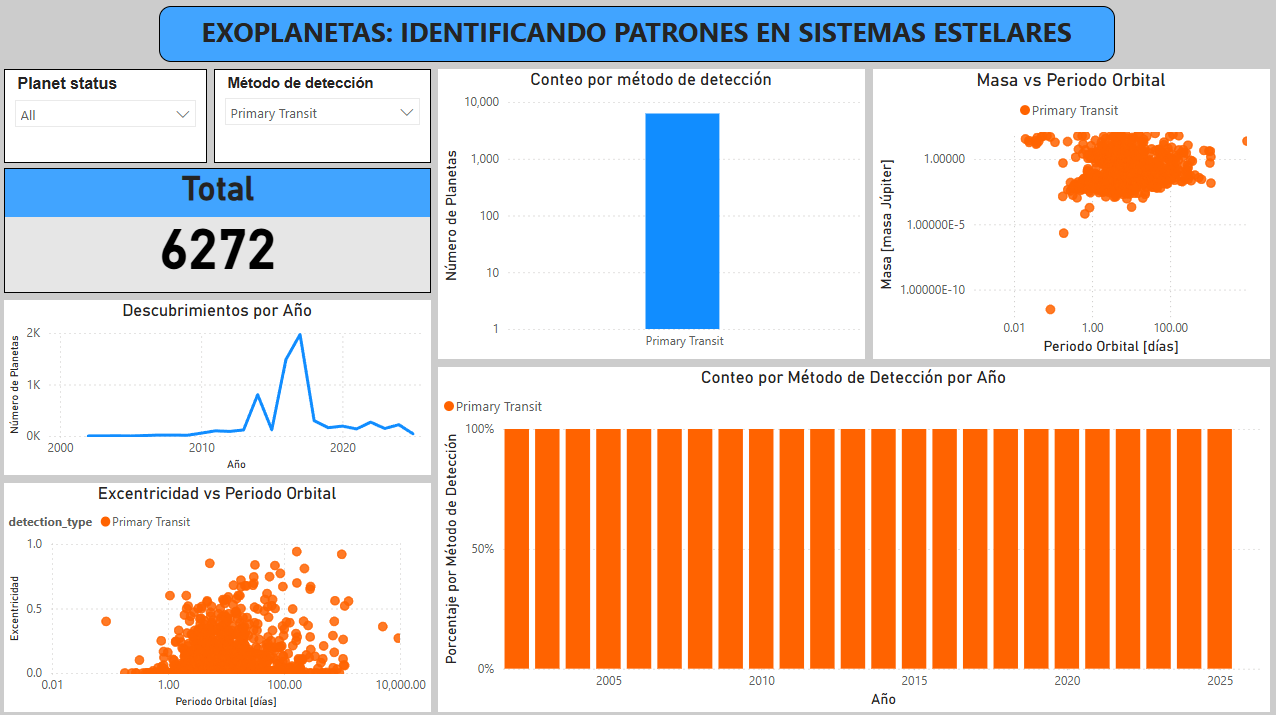

What the dashboard file says about the page in this screenshot:
{"tool":"powerbi","page":{"name":"Reporte","canvas":[1280,720],"ordinal":2},"visuals":[{"type":"card","title":"Total","fields":{"Values":["CountNonNull(exoplanets.detection_type)"]},"box":[7,169,427,125],"z":0},{"type":"slicer","fields":{"Values":["exoplanets.planet_status"]},"box":[7,70,203,94],"z":1000},{"type":"lineChart","title":"Descubrimientos por Año","fields":{"Category":["exoplanets.discovered"],"Y":["CountNonNull(exoplanets.discovered)"]},"box":[7,301,427,175],"z":2000},{"type":"hundredPercentStackedColumnChart","title":"Conteo por Método de Detección por Año","fields":{"Category":["exoplanets.discovered"],"Y":["CountNonNull(exoplanets.detection_type)"],"Series":["exoplanets.detection_type"]},"box":[441,368,832,345],"z":3000},{"type":"scatterChart","title":"Excentricidad vs Periodo Orbital","fields":{"X":["exoplanets.orbital_period"],"Y":["exoplanets.eccentricity"],"Series":["exoplanets.detection_type"]},"box":[7,484,427,229],"z":4000},{"type":"textbox","box":[162,7,956,56],"z":5000},{"type":"scatterChart","title":"Masa vs Periodo Orbital","fields":{"X":["exoplanets.orbital_period"],"Y":["exoplanets.mass"],"Series":["exoplanets.detection_type"]},"box":[876,70,397,290],"z":6000},{"type":"slicer","fields":{"Values":["exoplanets.detection_type"]},"box":[217,70,217,94],"z":6001},{"type":"clusteredColumnChart","title":"Conteo por método de detección","fields":{"Category":["exoplanets.detection_type"],"Y":["CountNonNull(exoplanets.detection_type)"]},"box":[441,70,427,290],"z":6002}]}

Visuals, with their boxes in screenshot pixels (x1, y1, x2, y2), scaled from the page's 1280x720 canvas onto the 1276x715 screenshot:
"Total" card: locate(7, 168, 433, 292)
slicer - exoplanets.planet_status: locate(7, 70, 209, 163)
"Descubrimientos por Año" lineChart: locate(7, 299, 433, 473)
"Conteo por Método de Detección por Año" hundredPercentStackedColumnChart: locate(440, 365, 1269, 708)
"Excentricidad vs Periodo Orbital" scatterChart: locate(7, 481, 433, 708)
textbox: locate(161, 7, 1115, 63)
"Masa vs Periodo Orbital" scatterChart: locate(873, 70, 1269, 358)
slicer - exoplanets.detection_type: locate(216, 70, 433, 163)
"Conteo por método de detección" clusteredColumnChart: locate(440, 70, 865, 358)
